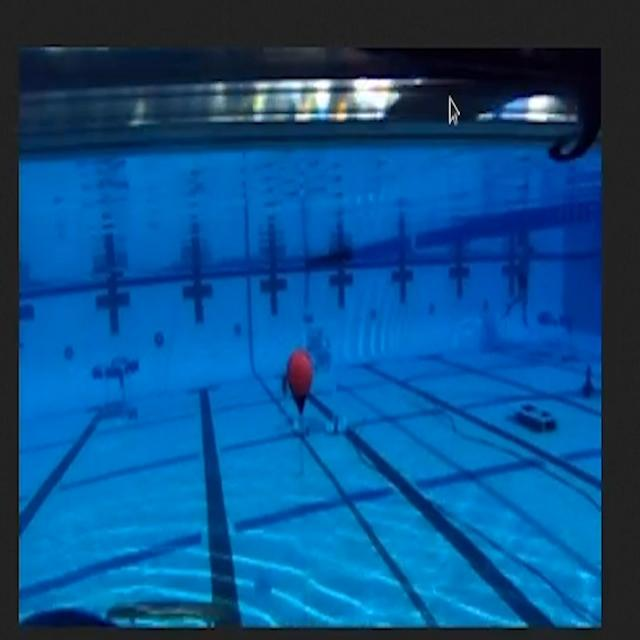Buoy: (286, 350, 316, 410)
